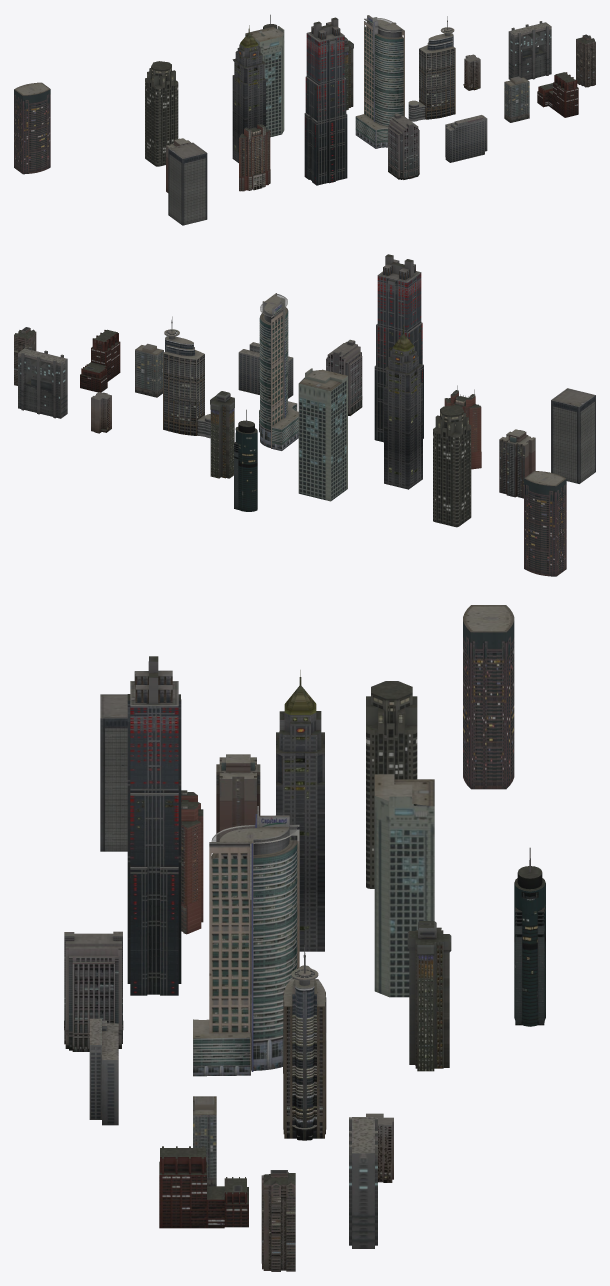
The model's file is towers_pack.glb.
3 views of the same model, one above another, from view 1: azimuth 30°, elevation 25°; view 2: azimuth 150°, elevation 25°; view 3: azimuth 270°, elevation 25° (orthographic). The views are drawn at different scales.
Visible parts, largest first — view 1: BACKGROUND_BUILDINGS_1.009, BACKGROUND_BUILDING_2, BACKGROUND_BUILDINGS_1, BACKGROUND_BUILDINGS_1.007, BACKGROUND_BUILDING_2.008, BACKGROUND_BUILDINGS_1.008, BACKGROUND_BUILDINGS_1.002, BACKGROUND_BUILDING_2.007, BACKGROUND_BUILDING_2.005, BACKGROUND_BUILDINGS_1.004, BACKGROUND_BUILDING_2.001, BACKGROUND_BUILDING_2.002 (+5 smaller); view 2: BACKGROUND_BUILDING_2.007, BACKGROUND_BUILDINGS_1.008, BACKGROUND_BUILDINGS_1.009, BACKGROUND_BUILDING_2, BACKGROUND_BUILDING_2.008, BACKGROUND_BUILDINGS_1.007, BACKGROUND_BUILDINGS_1, BACKGROUND_BUILDINGS_1.002, BACKGROUND_BUILDING_2.005, BACKGROUND_BUILDINGS_1.001, BACKGROUND_BUILDINGS_1.003, BACKGROUND_BUILDINGS_1.006 (+7 smaller); view 3: BACKGROUND_BUILDING_2, BACKGROUND_BUILDINGS_1.009, BACKGROUND_BUILDING_2.007, BACKGROUND_BUILDINGS_1.007, BACKGROUND_BUILDINGS_1.008, BACKGROUND_BUILDINGS_1, BACKGROUND_BUILDING_2.001, BACKGROUND_BUILDINGS_1.006, BACKGROUND_BUILDING_2.004, BACKGROUND_BUILDING_2.008, BACKGROUND_BUILDINGS_1.001, BACKGROUND_BUILDINGS_1.002 (+7 smaller).
Boxes of the visible parts, left/top/right/bottom form: BACKGROUND_BUILDINGS_1.009: left=304, top=17, right=347, bottom=185; BACKGROUND_BUILDING_2: left=355, top=15, right=404, bottom=148; BACKGROUND_BUILDINGS_1: left=408, top=16, right=455, bottom=121; BACKGROUND_BUILDINGS_1.007: left=14, top=82, right=50, bottom=174; BACKGROUND_BUILDING_2.008: left=145, top=61, right=178, bottom=166; BACKGROUND_BUILDINGS_1.008: left=232, top=25, right=265, bottom=162; BACKGROUND_BUILDINGS_1.002: left=168, top=142, right=207, bottom=225; BACKGROUND_BUILDING_2.007: left=245, top=26, right=284, bottom=137; BACKGROUND_BUILDING_2.005: left=508, top=21, right=551, bottom=80; BACKGROUND_BUILDINGS_1.004: left=239, top=124, right=270, bottom=191; BACKGROUND_BUILDING_2.001: left=388, top=113, right=419, bottom=179; BACKGROUND_BUILDING_2.002: left=445, top=115, right=487, bottom=162; BACKGROUND_BUILDING_2.007: left=298, top=368, right=347, bottom=501; BACKGROUND_BUILDINGS_1.008: left=384, top=324, right=422, bottom=489; BACKGROUND_BUILDINGS_1.009: left=374, top=254, right=423, bottom=442; BACKGROUND_BUILDING_2: left=259, top=293, right=298, bottom=450; BACKGROUND_BUILDING_2.008: left=433, top=405, right=471, bottom=527; BACKGROUND_BUILDINGS_1.007: left=524, top=471, right=566, bottom=576; BACKGROUND_BUILDINGS_1: left=163, top=316, right=210, bottom=438; BACKGROUND_BUILDINGS_1.002: left=551, top=388, right=595, bottom=483; BACKGROUND_BUILDING_2.005: left=18, top=346, right=67, bottom=418; BACKGROUND_BUILDINGS_1.001: left=234, top=409, right=257, bottom=511; BACKGROUND_BUILDINGS_1.003: left=499, top=429, right=535, bottom=498; BACKGROUND_BUILDINGS_1.006: left=210, top=391, right=234, bottom=478; BACKGROUND_BUILDING_2: left=193, top=806, right=299, bottom=1076; BACKGROUND_BUILDINGS_1.009: left=127, top=656, right=181, bottom=995; BACKGROUND_BUILDING_2.007: left=374, top=774, right=434, bottom=997; BACKGROUND_BUILDINGS_1.007: left=463, top=605, right=514, bottom=789; BACKGROUND_BUILDINGS_1.008: left=276, top=670, right=324, bottom=951; BACKGROUND_BUILDINGS_1: left=283, top=945, right=326, bottom=1140; BACKGROUND_BUILDING_2.001: left=64, top=931, right=123, bottom=1051; BACKGROUND_BUILDINGS_1.006: left=407, top=921, right=451, bottom=1071; BACKGROUND_BUILDING_2.004: left=159, top=1146, right=248, bottom=1228; BACKGROUND_BUILDING_2.008: left=366, top=681, right=417, bottom=888; BACKGROUND_BUILDINGS_1.001: left=514, top=847, right=545, bottom=1026; BACKGROUND_BUILDINGS_1.002: left=100, top=694, right=127, bottom=851.
Bounding box in the file's own units: 1049 × 301 × 419.
2 materials, 2 textured.
